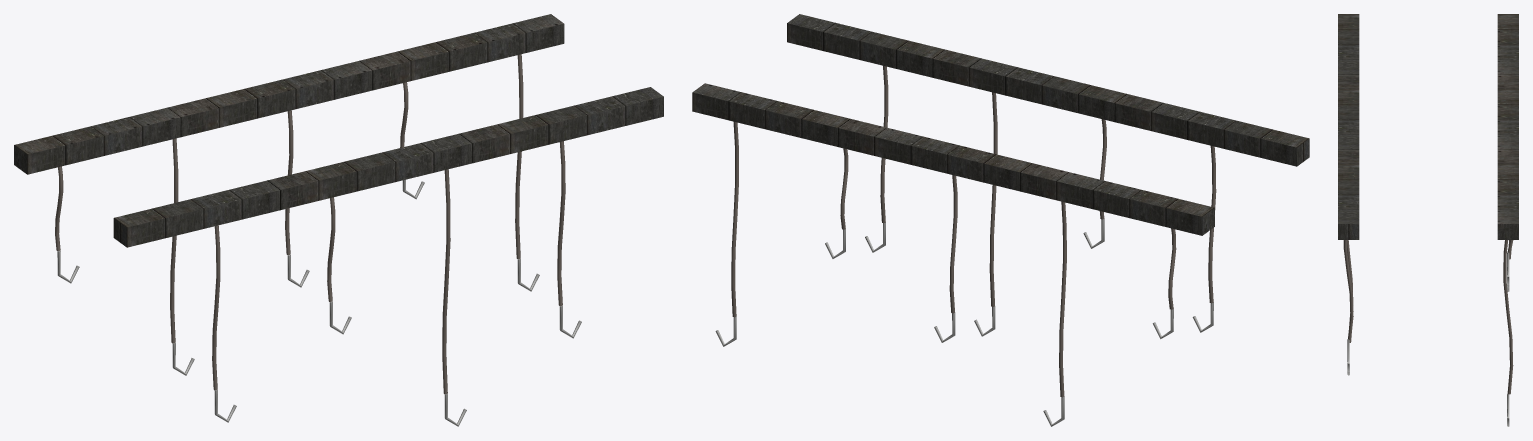
The model's file is hooks_chains.glb.
The picture shows the model from 3 angles, left to right: view 1: azimuth 30°, elevation 25°; view 2: azimuth 150°, elevation 25°; view 3: azimuth 270°, elevation 25°; orthographic projection. The views are drawn at different scales.
Parts seen in each view (by area): view 1: hooks_chains; view 2: hooks_chains; view 3: hooks_chains.
Part boxes in pixels (left/top/right/bottom): hooks_chains: left=14, top=14, right=663, bottom=426; hooks_chains: left=692, top=14, right=1309, bottom=426; hooks_chains: left=1338, top=14, right=1518, bottom=426.
Bounding box in the file's own units: 2.8 × 1.43 × 1.02.
Materials: 3 (1 with a texture image).
